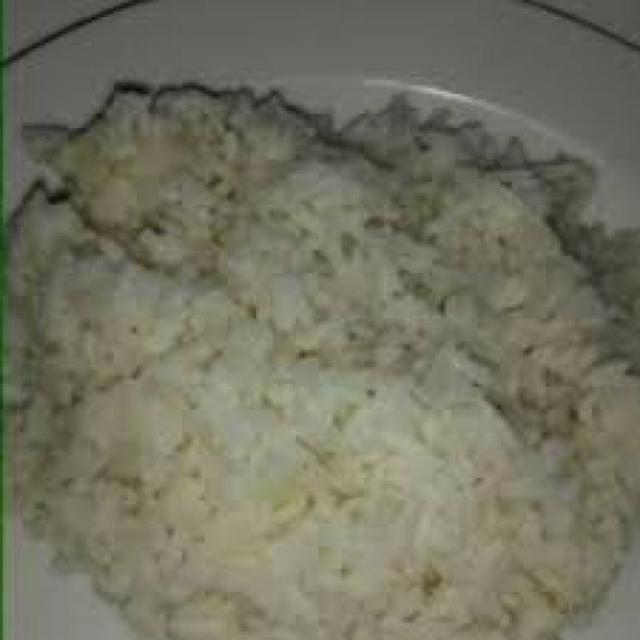nasi_putih: (2, 73, 640, 640)
